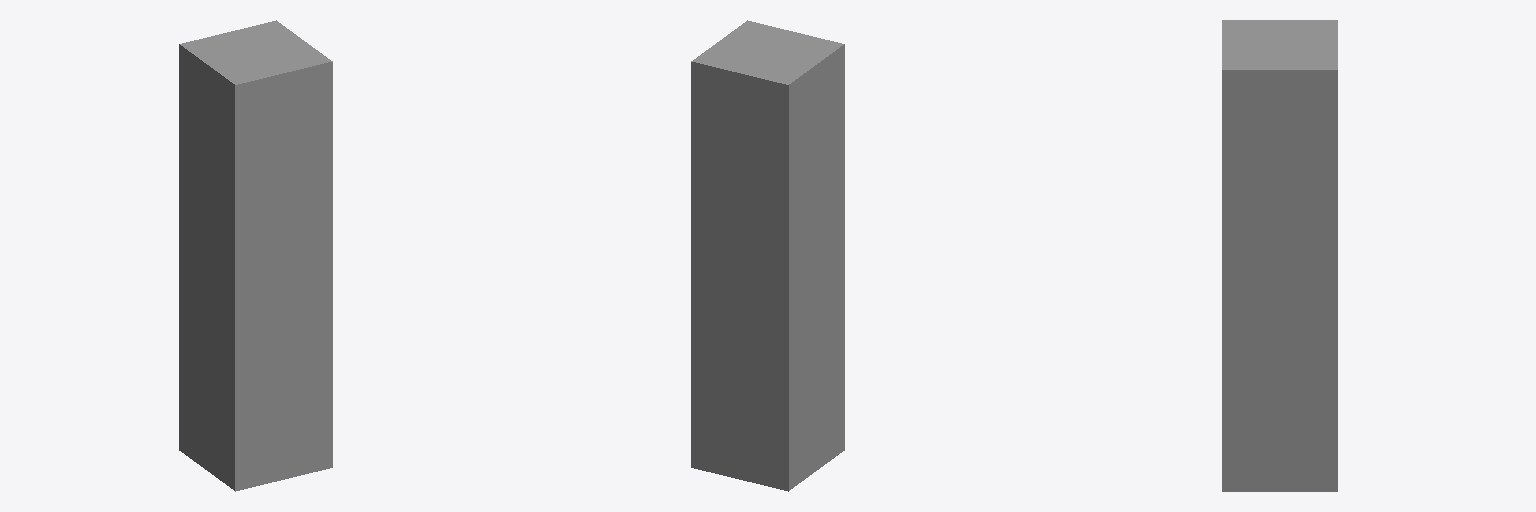
robot.urdf — cuboid_bar:
<?xml version="1.0" ?>
<robot name="cuboid_bar">
  <link name="cuboid_bar_link">
    <contact>
      <lateral_friction value="3.0"/>
      <rolling_friction value="0.0"/>
      <contact_cfm value="0.0"/>
      <contact_erp value="1.0"/>
    </contact>
    <inertial>
      <origin rpy="0 0 0" xyz="0 0 0"/>
      <mass value="0.12"/>
      <inertia ixx="0.0002" ixy="0" ixz="0" iyy="0.0002" iyz="0" izz="0.00005"/>
    </inertial>
    <visual>
      <origin rpy="0 0 0" xyz="0 0 0"/>
      <geometry>
        <box size="0.02 0.02 0.08"/>
      </geometry>
      <material name="gray">
        <color rgba="0.65 0.65 0.65 1"/>
      </material>
    </visual>
    <collision>
      <origin rpy="0 0 0" xyz="0 0 0"/>
      <geometry>
        <box size="0.02 0.02 0.08"/>
      </geometry>
    </collision>
  </link>
</robot>

--- What the picture shows (computed from the rendered views, not written in the file) ---
The picture shows the robot from 3 angles, left to right: view 1: azimuth 30°, elevation 25°; view 2: azimuth 150°, elevation 25°; view 3: azimuth 270°, elevation 25°; orthographic projection.
Robot: cuboid_bar — 1 links, 0 joints (none); root link cuboid_bar_link; default pose: every joint at zero.
Visible links, largest first — view 1: cuboid_bar_link; view 2: cuboid_bar_link; view 3: cuboid_bar_link.
Boxes of the visible links, <box> form: cuboid_bar_link: <box>179,20,332,491</box>; cuboid_bar_link: <box>691,20,844,491</box>; cuboid_bar_link: <box>1222,20,1337,491</box>.
Size in the robot's own frame: 0.02 by 0.02 by 0.08 metres.
Geometry: primitives only (box / cylinder / sphere), no mesh files.
